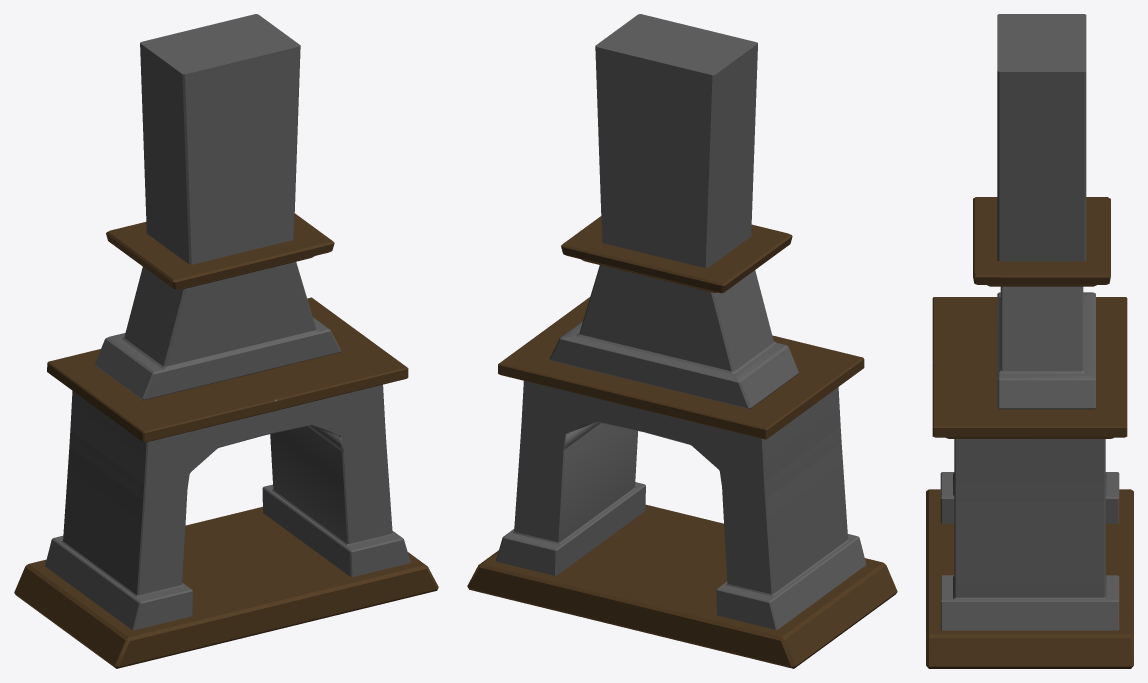
Rendered from camino texturizzato finale.fbx.
The picture shows the model from 3 angles, left to right: view 1: azimuth 30°, elevation 25°; view 2: azimuth 150°, elevation 25°; view 3: azimuth 270°, elevation 25°; orthographic projection.
Visible parts, largest first — view 1: pCube4300; view 2: pCube4300; view 3: pCube4300.
Boxes of the visible parts, box(x1,y1,x2,y2) form: pCube4300: box(14, 14, 438, 668); pCube4300: box(467, 14, 897, 668); pCube4300: box(926, 14, 1133, 668).
Size of the model in its own units: 8.54 by 13.71 by 4.72.
